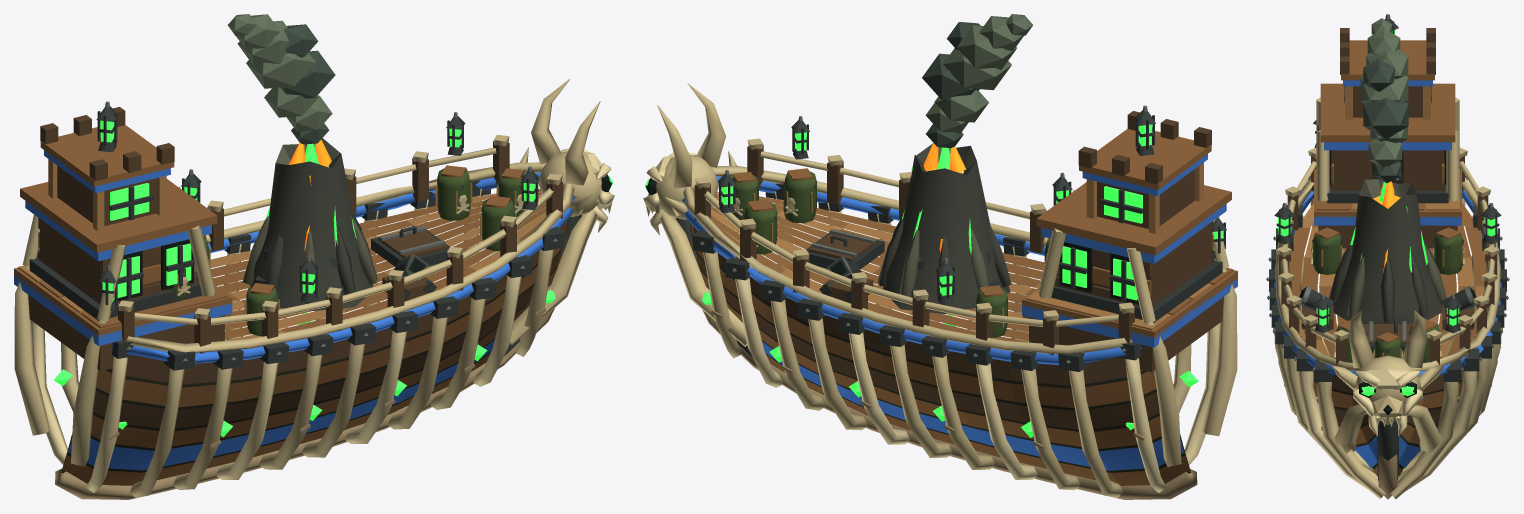
The picture shows the model from 3 angles, left to right: view 1: azimuth 30°, elevation 25°; view 2: azimuth 150°, elevation 25°; view 3: azimuth 270°, elevation 25°; orthographic projection. The views are drawn at different scales.
Visible parts, largest first — view 1: jagged-volcano-chimney, cabin-lower-roof, ivory-gunwale-cap-1, upper-roof-oak, keel-spine, stern-bone-stanchion--1, quarterdeck-understructure, cabin-lower-walls, team-gunwale-1, bow-jaw-rail-1, stern-bone-stanchion-1, cabin-lower-sill (+56 smaller); view 2: jagged-volcano-chimney, cabin-lower-roof, ivory-gunwale-cap--1, upper-roof-oak, keel-spine, stern-bone-stanchion-1, cabin-lower-walls, quarterdeck-understructure, team-gunwale--1, cabin-lower-sill, bow-jaw-rail--1, stern-bone-stanchion--1 (+54 smaller); view 3: jagged-volcano-chimney, cabin-lower-roof, cabin-lower-walls, great-rib-10-1, great-rib-10--1, upper-roof-oak, solid-ghost-smoke-3, great-rib-9--1, great-rib-9-1, ivory-gunwale-cap-1, ivory-gunwale-cap--1, plague-barrel-mid-port-staves (+57 smaller).
Part boxes in pixels (box(x1,y1,x2,y2)): jagged-volcano-chimney: box(250, 154, 373, 311); cabin-lower-roof: box(20, 179, 217, 252); ivory-gunwale-cap-1: box(120, 183, 574, 352); upper-roof-oak: box(40, 125, 174, 186); keel-spine: box(55, 308, 554, 499); stern-bone-stanchion--1: box(14, 266, 49, 435); quarterdeck-understructure: box(28, 295, 224, 370); cabin-lower-walls: box(40, 219, 197, 304); team-gunwale-1: box(111, 195, 575, 363); bow-jaw-rail-1: box(510, 210, 597, 344); stern-bone-stanchion-1: box(71, 320, 106, 466); cabin-lower-sill: box(29, 257, 202, 320); jagged-volcano-chimney: box(883, 155, 1010, 313); cabin-lower-roof: box(1036, 182, 1231, 255); ivory-gunwale-cap--1: box(683, 186, 1132, 354); upper-roof-oak: box(1079, 129, 1211, 189); keel-spine: box(702, 310, 1197, 499); stern-bone-stanchion-1: box(1202, 268, 1237, 436); cabin-lower-walls: box(1056, 222, 1211, 306); quarterdeck-understructure: box(1029, 297, 1223, 372); team-gunwale--1: box(682, 198, 1141, 364); cabin-lower-sill: box(1051, 260, 1222, 322); bow-jaw-rail--1: box(660, 213, 746, 346); stern-bone-stanchion--1: box(1146, 322, 1181, 466); jagged-volcano-chimney: box(1332, 194, 1443, 324); cabin-lower-roof: box(1320, 83, 1455, 142); cabin-lower-walls: box(1334, 150, 1441, 190); great-rib-10-1: box(1317, 382, 1385, 498); great-rib-10--1: box(1390, 382, 1458, 498); upper-roof-oak: box(1341, 40, 1434, 80); solid-ghost-smoke-3: box(1363, 98, 1408, 139); great-rib-9--1: box(1405, 371, 1476, 491); great-rib-9-1: box(1299, 371, 1370, 491); ivory-gunwale-cap-1: box(1275, 177, 1362, 371); ivory-gunwale-cap--1: box(1413, 177, 1500, 371); plague-barrel-mid-port-staves: box(1312, 230, 1341, 274).
Bounding box in the file's own units: 2.55 × 1.99 × 1.09.
